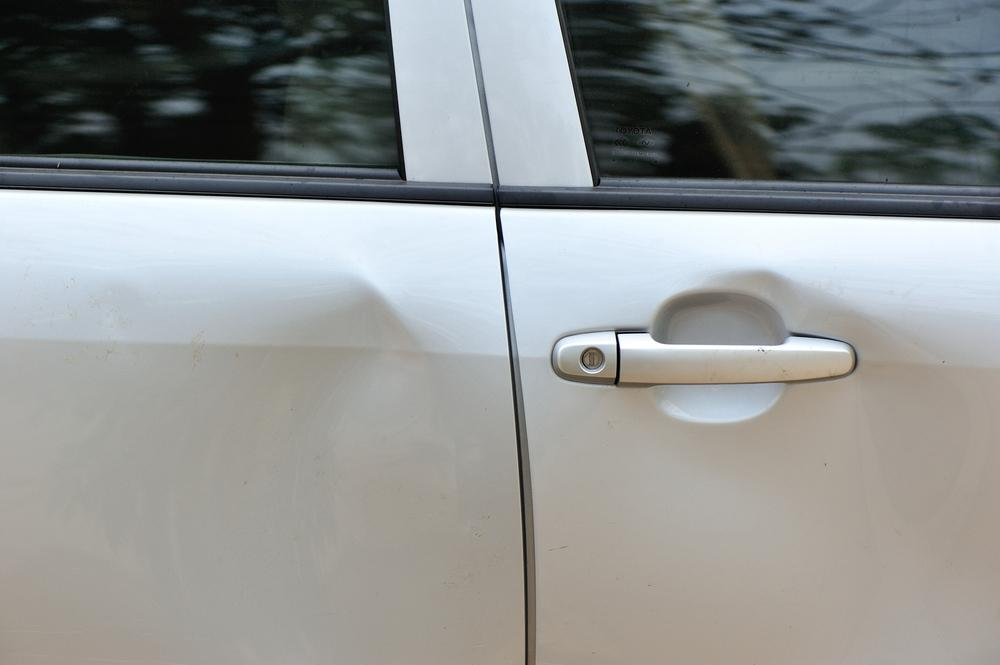dent: (92, 280, 413, 609), (706, 266, 971, 512)
